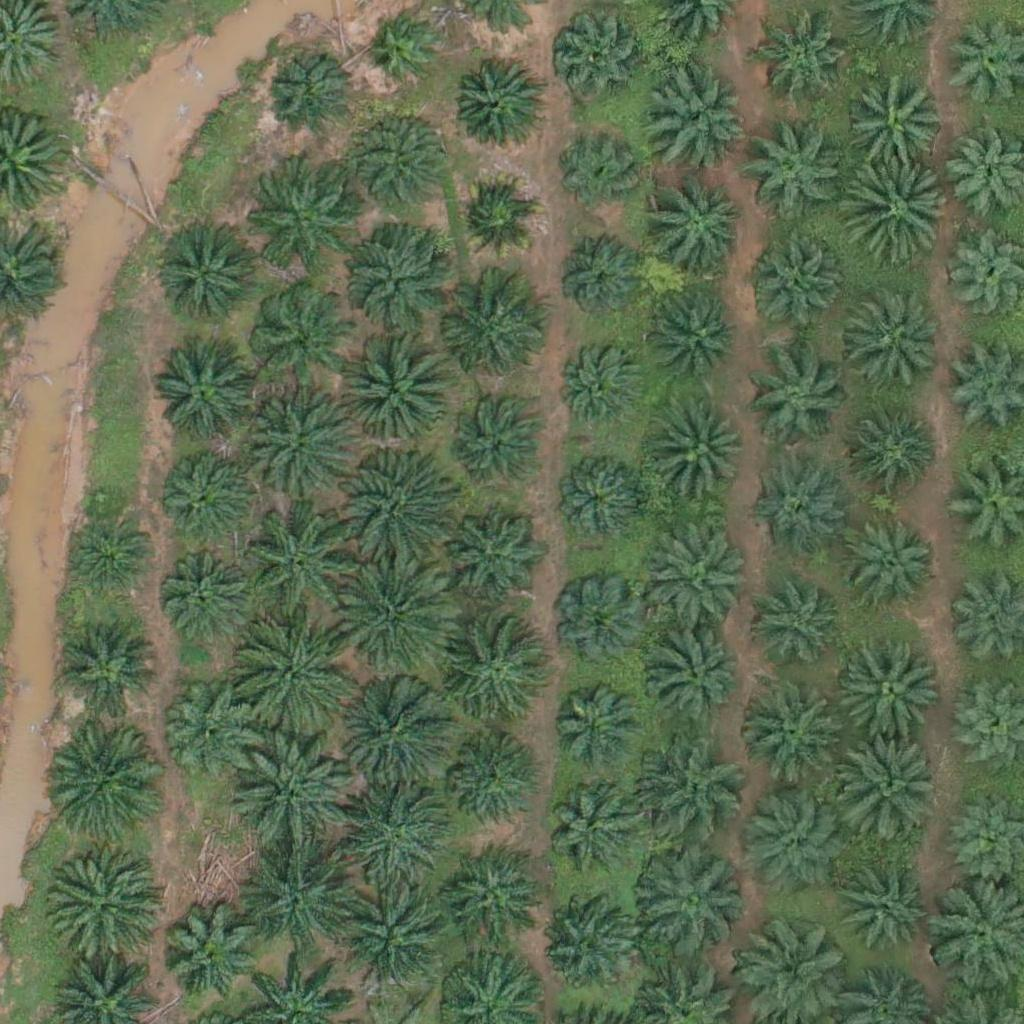Kelapa_Sawit: (49, 721, 162, 835), (733, 786, 846, 899), (733, 905, 846, 1018), (630, 846, 743, 959), (233, 738, 346, 851), (45, 845, 158, 958), (342, 559, 455, 672), (342, 448, 455, 561), (341, 330, 454, 443), (342, 215, 455, 328), (239, 390, 352, 503), (241, 619, 354, 732), (734, 679, 846, 793), (338, 776, 450, 890), (339, 889, 451, 1003), (839, 154, 951, 268), (643, 520, 755, 634), (346, 673, 458, 787), (837, 732, 949, 845), (637, 729, 749, 842), (244, 836, 356, 949), (832, 633, 944, 746), (438, 274, 550, 387), (440, 624, 552, 737), (246, 504, 358, 617), (839, 851, 939, 952), (536, 897, 636, 998), (837, 511, 937, 612), (850, 78, 950, 179), (742, 126, 842, 227), (744, 236, 844, 337), (749, 580, 849, 681), (649, 172, 749, 273), (549, 572, 649, 673), (441, 512, 541, 613), (243, 172, 343, 273), (249, 284, 349, 385), (155, 438, 255, 539), (155, 346, 255, 447), (161, 220, 261, 321), (57, 618, 157, 719), (442, 855, 542, 955), (159, 904, 259, 1004), (838, 289, 938, 389), (747, 346, 847, 446), (747, 470, 847, 570), (651, 69, 751, 169), (652, 406, 752, 506), (645, 627, 745, 727), (550, 451, 650, 551), (350, 107, 450, 207), (162, 681, 262, 781), (158, 540, 258, 640), (547, 784, 635, 872), (444, 738, 532, 826), (843, 405, 931, 493), (764, 23, 852, 111), (651, 289, 739, 377), (550, 681, 638, 769), (556, 128, 644, 216), (557, 240, 645, 328), (557, 345, 645, 433), (265, 48, 353, 136), (554, 11, 641, 99), (452, 57, 539, 145), (452, 175, 539, 263), (449, 396, 536, 484), (64, 506, 151, 594), (368, 14, 443, 90)
